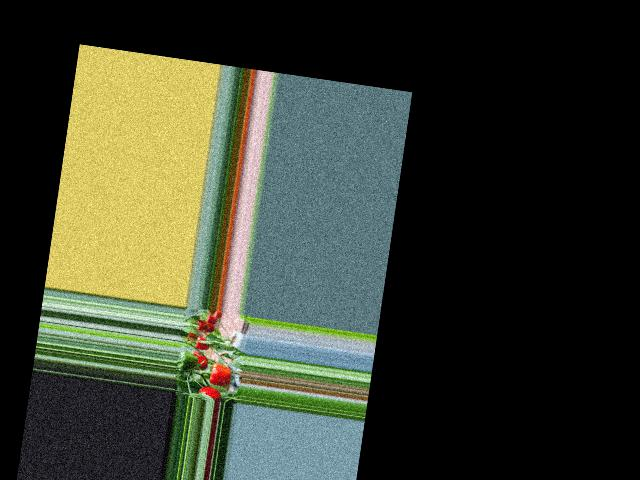bell_pepper: (191, 334, 214, 351)
